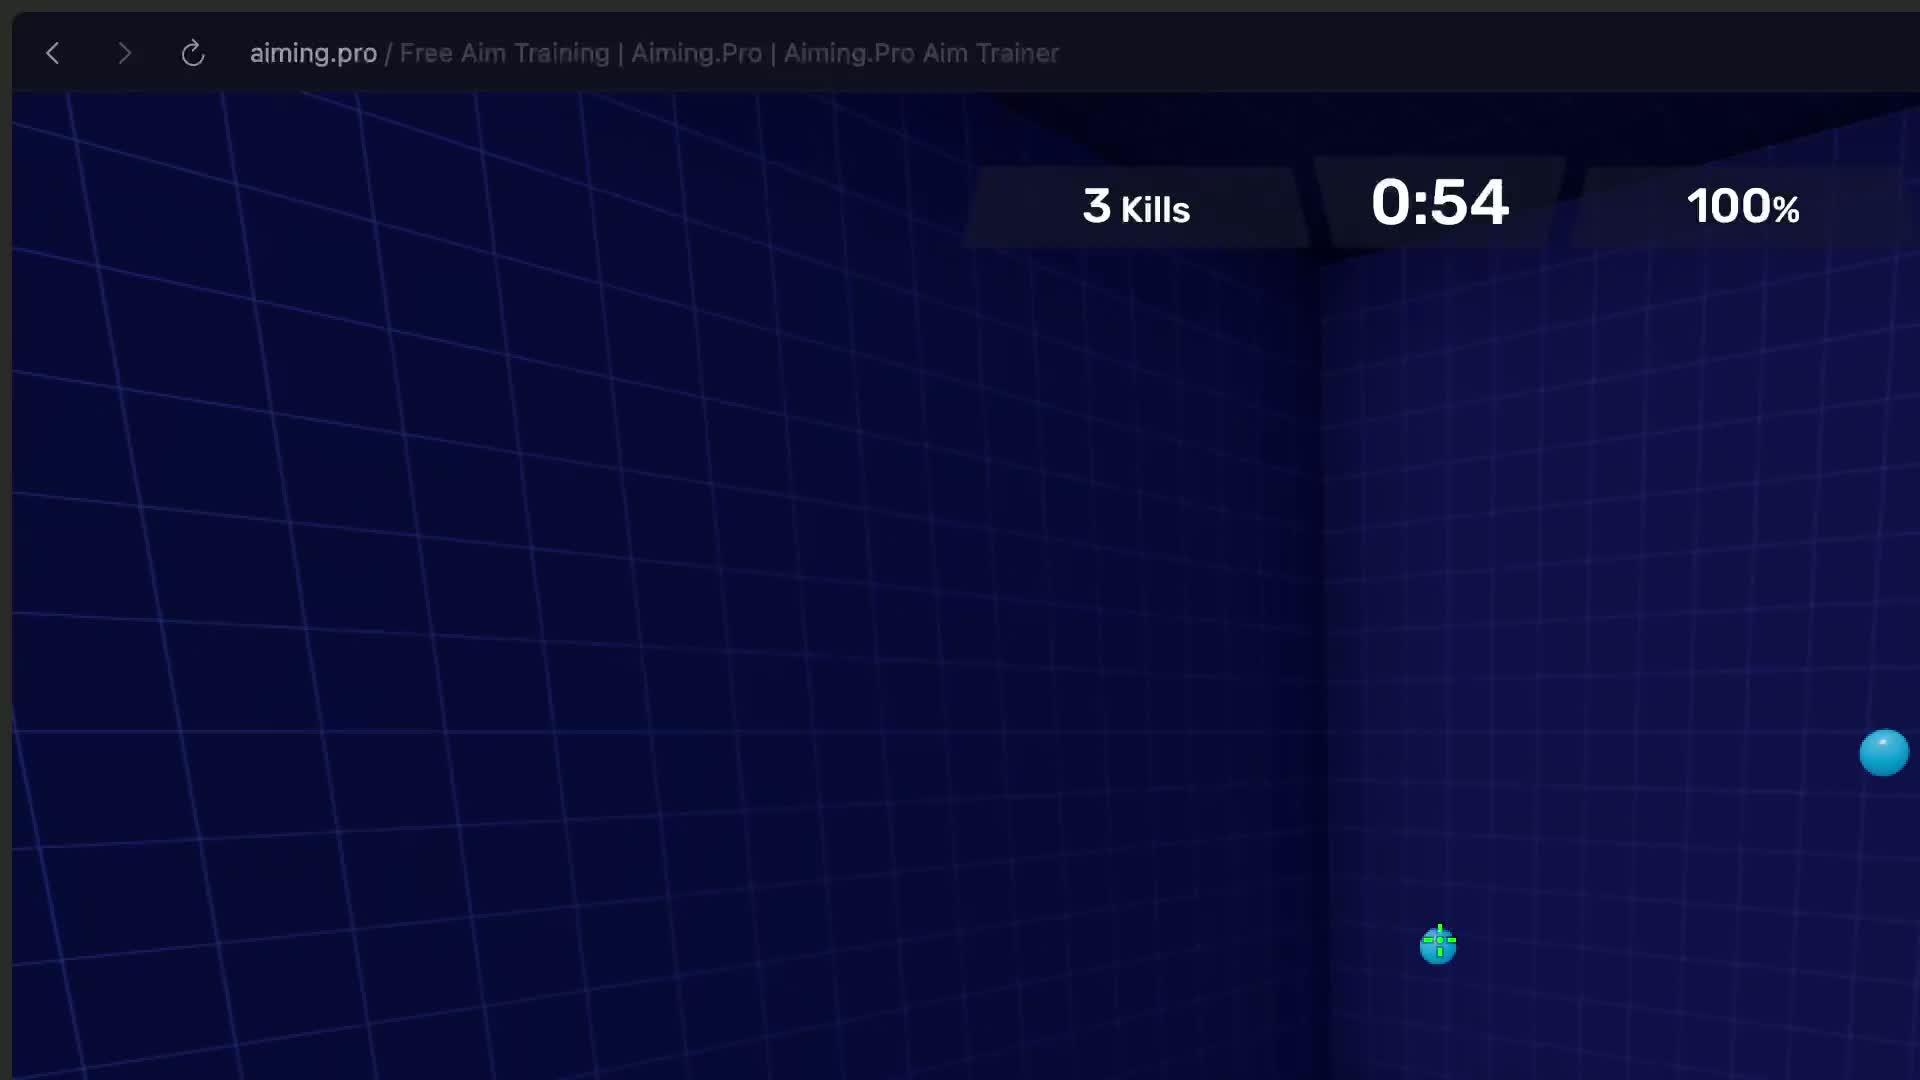target: (1859, 729, 1909, 775), (1422, 938, 1456, 963)
